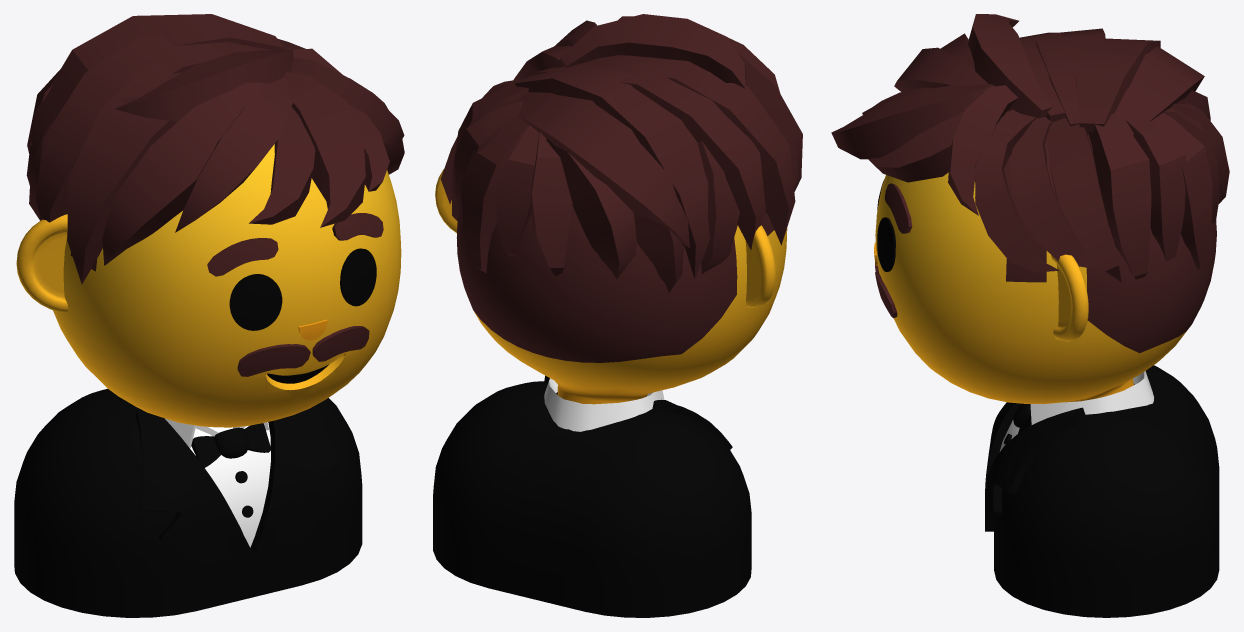
Rendered from man_in_tuxedo.fbx.
3 views of the same model, side by side, from view 1: azimuth 30°, elevation 25°; view 2: azimuth 150°, elevation 25°; view 3: azimuth 270°, elevation 25° (orthographic). The views are drawn at different scales.
Visible parts, largest first — view 1: Cube.2139, Roundcube.172, Sphere.143, Circle.868, Circle.865, Cylinder.140, Circle.871, Circle.867, Circle.869, Cube.2147, Plane.087; view 2: Cube.2139, Sphere.143, Roundcube.172, Plane.087, Cylinder.140, Circle.868; view 3: Cube.2139, Roundcube.172, Sphere.143, Circle.868, Cylinder.140, Plane.087, Circle.865, Circle.867.
Boxes of the visible parts, left/top/right/bottom form: Cube.2139: left=26, top=14, right=404, bottom=284; Roundcube.172: left=53, top=144, right=401, bottom=427; Sphere.143: left=14, top=388, right=362, bottom=617; Circle.868: left=135, top=408, right=341, bottom=581; Circle.865: left=229, top=248, right=376, bottom=330; Cylinder.140: left=16, top=214, right=68, bottom=312; Circle.871: left=237, top=326, right=369, bottom=376; Circle.867: left=207, top=213, right=383, bottom=276; Circle.869: left=191, top=423, right=270, bottom=467; Cube.2147: left=214, top=427, right=248, bottom=458; Plane.087: left=165, top=418, right=268, bottom=448; Cube.2139: left=440, top=14, right=802, bottom=292; Sphere.143: left=433, top=381, right=751, bottom=617; Roundcube.172: left=456, top=206, right=787, bottom=404; Plane.087: left=544, top=378, right=664, bottom=431; Cylinder.140: left=435, top=169, right=775, bottom=307; Circle.868: left=544, top=375, right=732, bottom=449; Cube.2139: left=831, top=14, right=1229, bottom=282; Roundcube.172: left=875, top=110, right=1216, bottom=403; Sphere.143: left=994, top=365, right=1219, bottom=617; Circle.868: left=985, top=402, right=1085, bottom=531; Cylinder.140: left=1051, top=254, right=1088, bottom=341; Plane.087: left=1030, top=371, right=1153, bottom=424; Circle.865: left=877, top=179, right=895, bottom=271; Circle.867: left=884, top=183, right=912, bottom=233.
Size of the model in its own units: 176 by 248 by 177.
2 materials, 2 textured.
